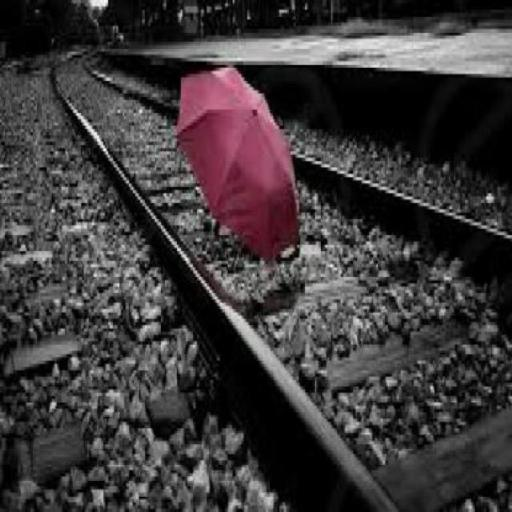guarda_chuva: (174, 64, 301, 262)
